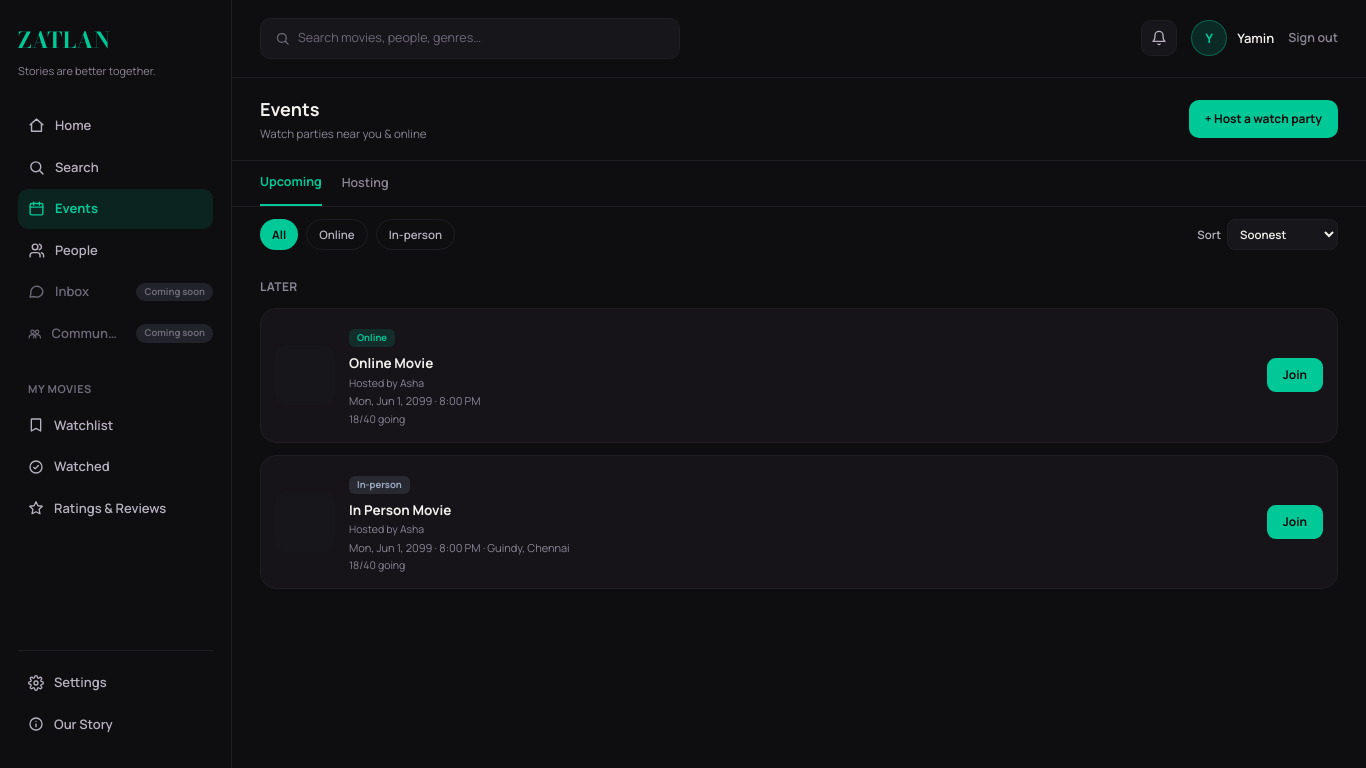
Test: EventsPage › mode filter chips › filters down to only In-person when that chip is clicked
Check: the text "Online Movie" is shown, box [349,354,433,372]
Click the button "In-person": (415,234) [376,219,455,250]
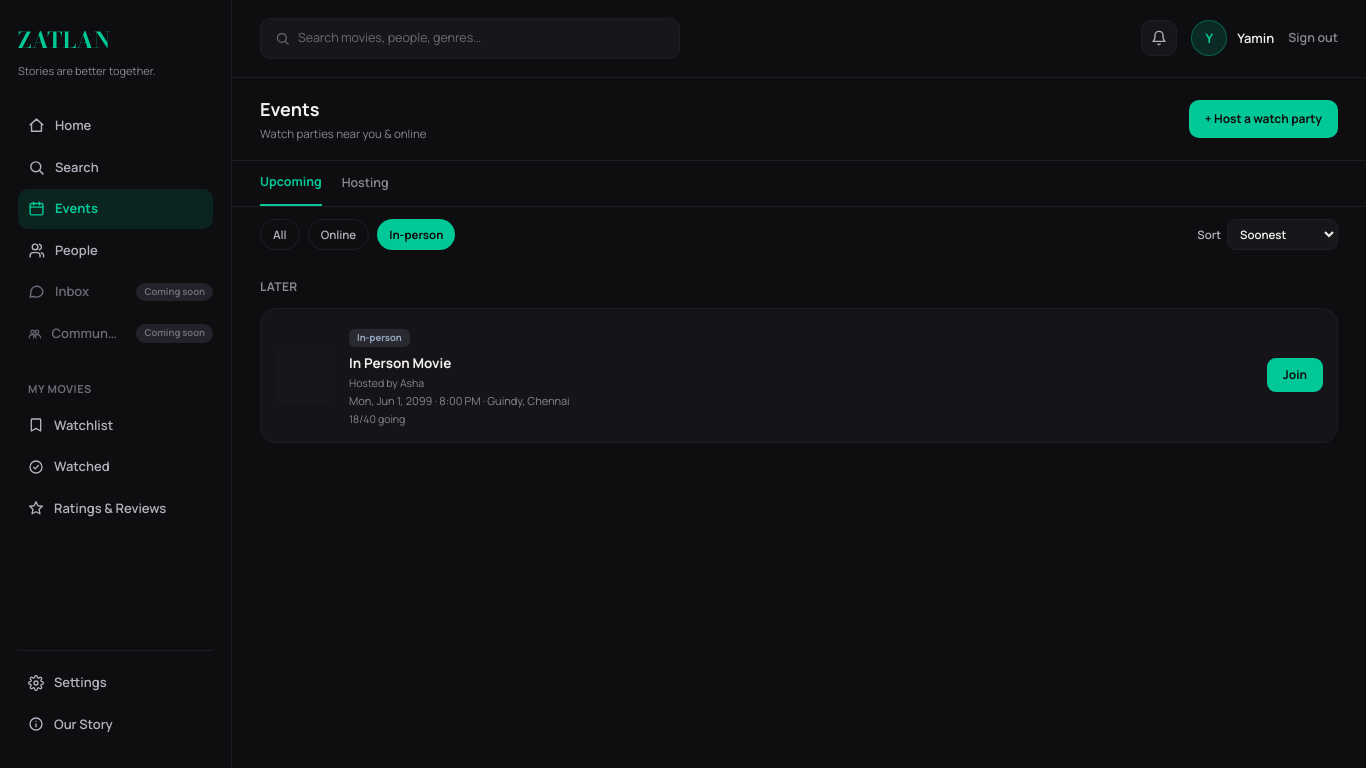
Check: the text "In Person Movie" is shown, box [349,354,452,372]
Check: the button "Online Movie" is gone
